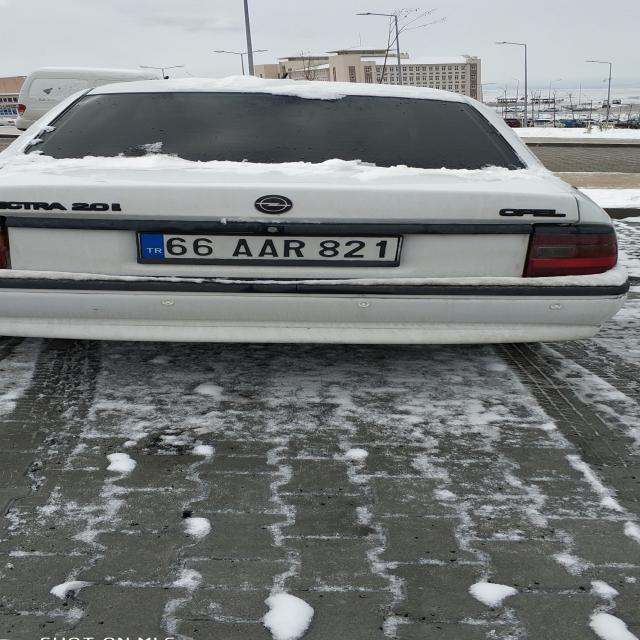license_plate: (137, 232, 403, 261)
